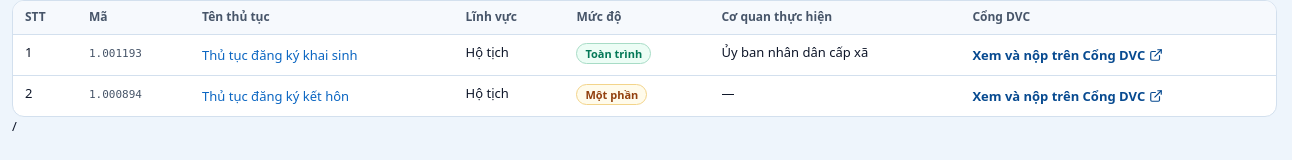
it: DanhSachThuTuc: nạp trước › bấm tên thủ tục trong bảng mở popup bằng ma trên địa chỉ
Click the button "Thủ tục đăng ký kết hôn" at (276, 96), box left=202, top=84, right=349, bottom=108
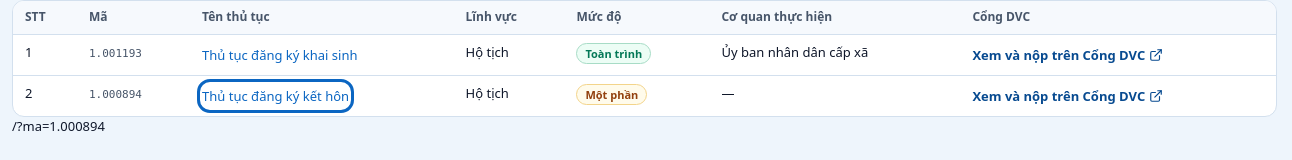
Check: the text with test id "dia-chi" reads "/?ma=1.000894", box left=12, top=117, right=105, bottom=135
